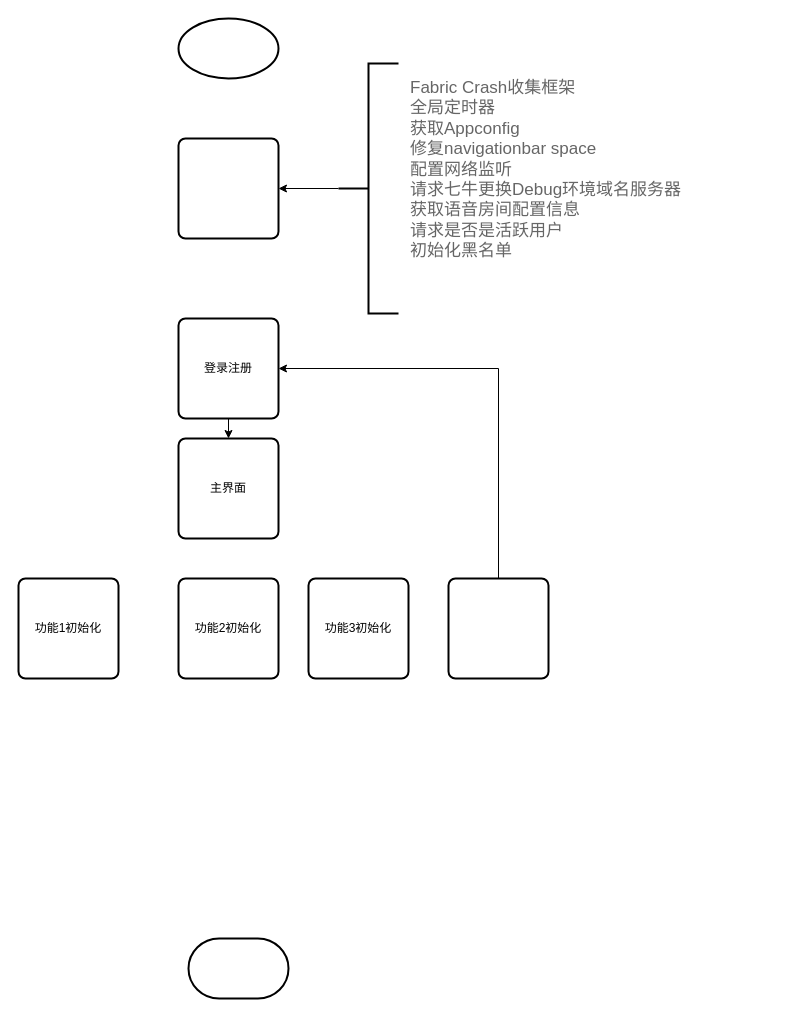
Image size: 785x1016. Some labels were removed from this diagram. The box of each missing label's shape, as (x1, y1, x2, y2) in pixels:
应用程序配置: (177, 137, 279, 239)
开始: (177, 17, 279, 79)
退出登录: (447, 577, 549, 679)
